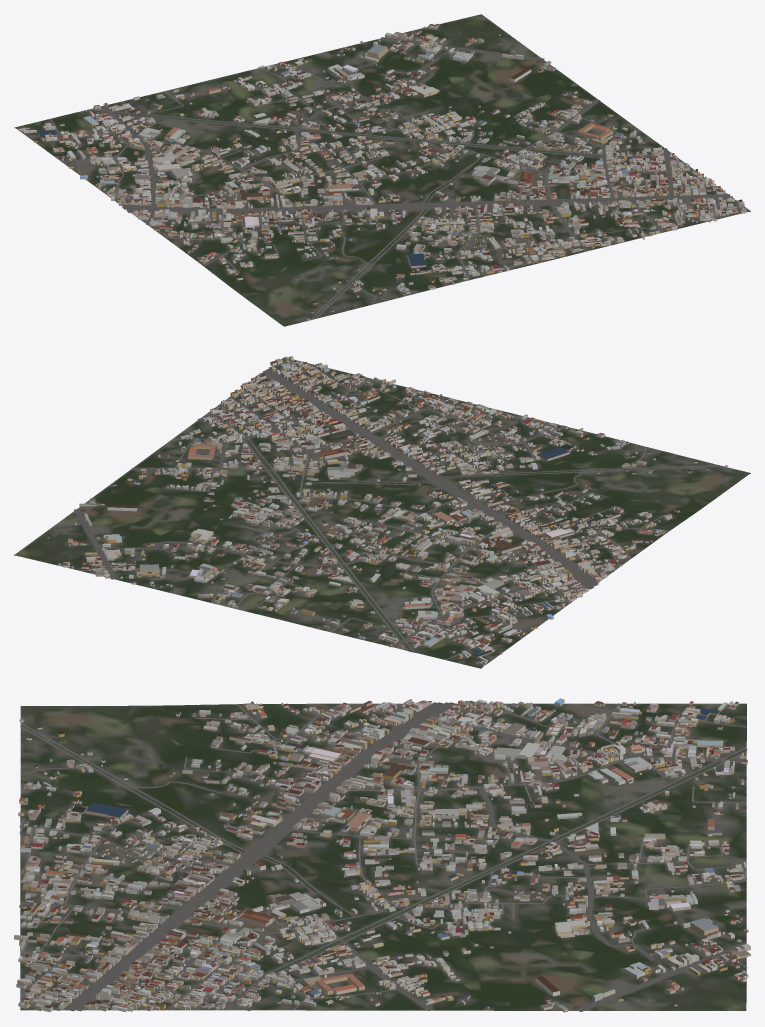
3 renders of one model, top to bottom at view 1: azimuth 30°, elevation 25°; view 2: azimuth 150°, elevation 25°; view 3: azimuth 270°, elevation 25°, orthographic. The views are drawn at different scales.
Visible parts, largest first — view 1: ground, buildings, roads, water; view 2: ground, buildings, roads, water; view 3: ground, buildings, roads, water.
Part boxes in pixels (box(x1,y1,x2,y2)): ground: box(15, 14, 750, 326); buildings: box(18, 23, 746, 321); roads: box(14, 29, 740, 320); water: box(84, 104, 599, 156); ground: box(14, 358, 750, 668); buildings: box(47, 356, 727, 666); roads: box(72, 359, 724, 659); water: box(246, 440, 412, 651); ground: box(20, 703, 746, 1010); buildings: box(14, 698, 750, 1012); roads: box(19, 702, 746, 1011); water: box(273, 749, 747, 973).
Size of the model in its own units: 1418 by 23.11 by 1421.
